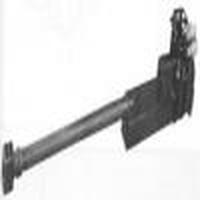gun: (3, 9, 200, 188)
